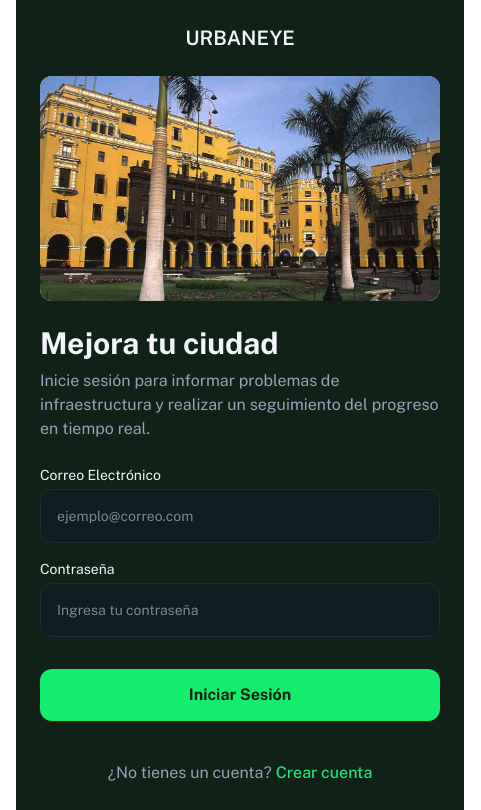
Test case: LoginPage › muestra en la UI un aviso cuando las credenciales son inválidas
Expected: the heading "Mejora tu ciudad" is shown, left=40, top=325, right=279, bottom=361
Type "ciudadano@urbaneye.app" into the field labelled "Correo Electrónico" at (240, 516), box left=40, top=489, right=440, bottom=543
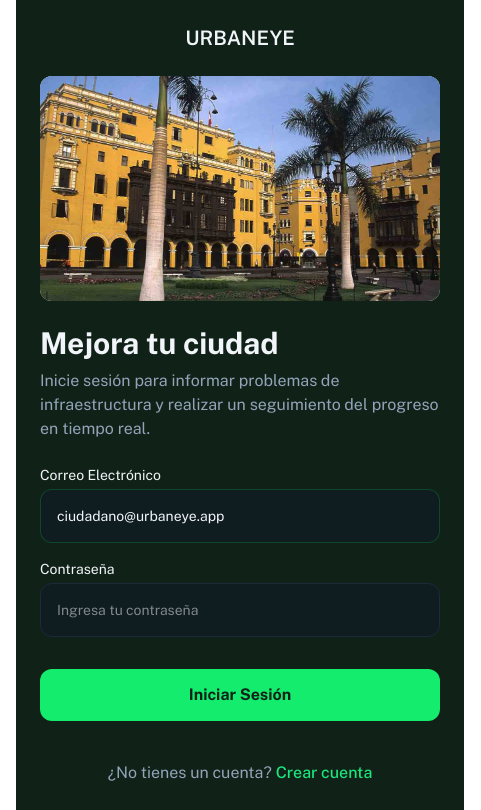
Type "clave-incorrecta" into the password field labelled "Contraseña" at (240, 610), box left=40, top=583, right=440, bottom=637
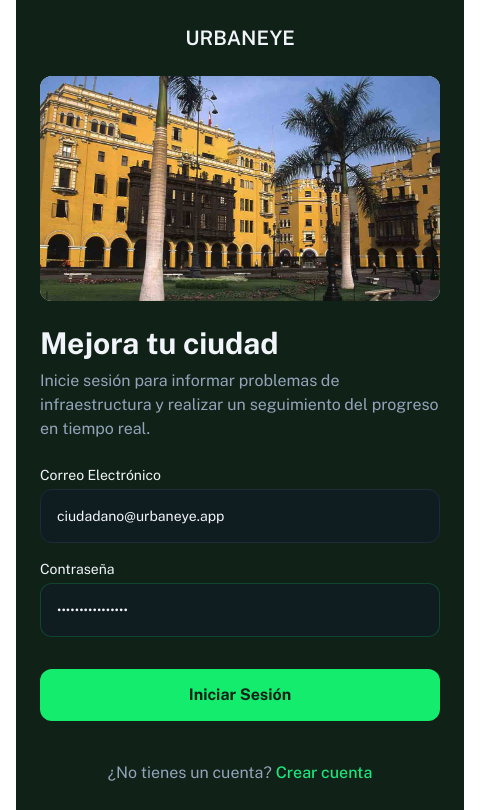
Click the button "Iniciar Sesión" at (240, 695), box left=40, top=669, right=440, bottom=721
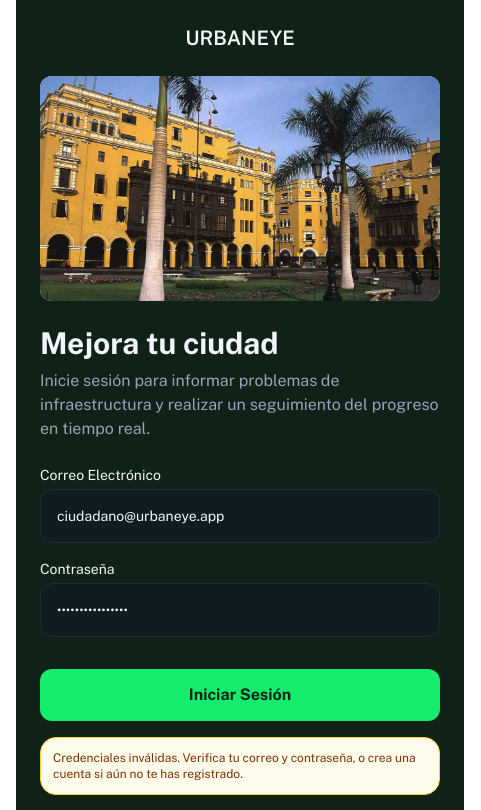
Result: the text "Credenciales inválidas. Verifica tu correo y contraseña" is shown at left=53, top=751, right=416, bottom=781
